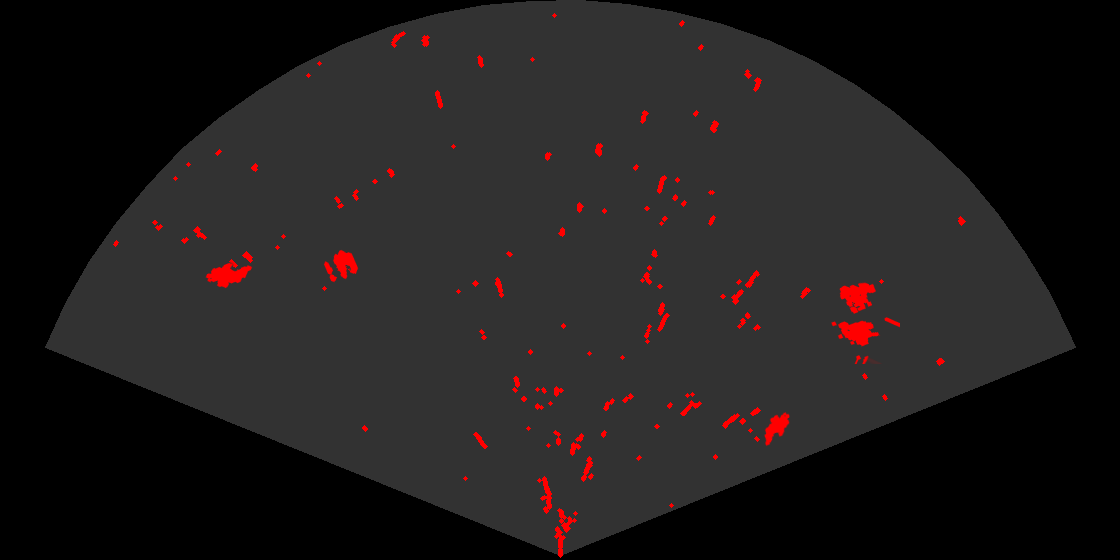AUV: (204, 261, 254, 290), (763, 411, 791, 448)
ball: (322, 248, 360, 284)
cage: (830, 281, 900, 364)
